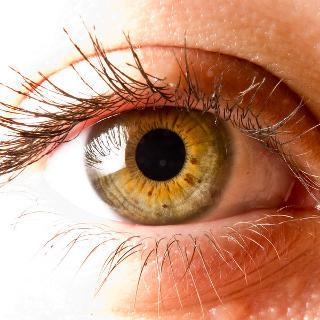pupil: (134, 128, 187, 181)
